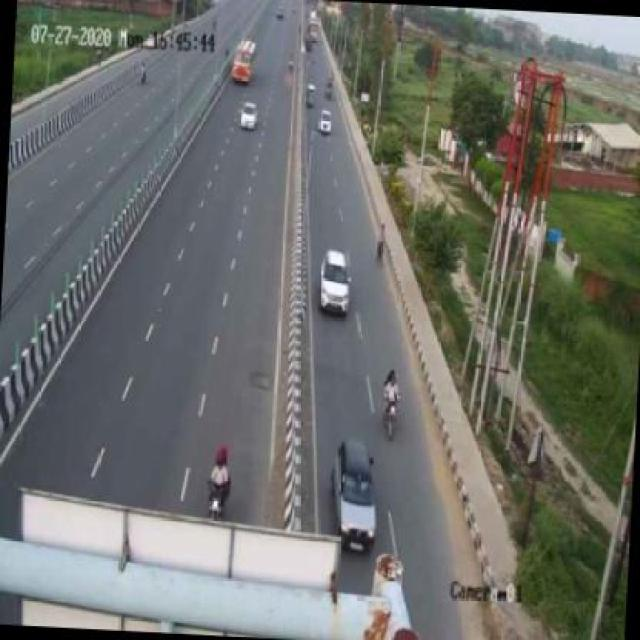car: (326, 437, 383, 549), (312, 249, 358, 314), (316, 108, 338, 140), (238, 100, 257, 128)
